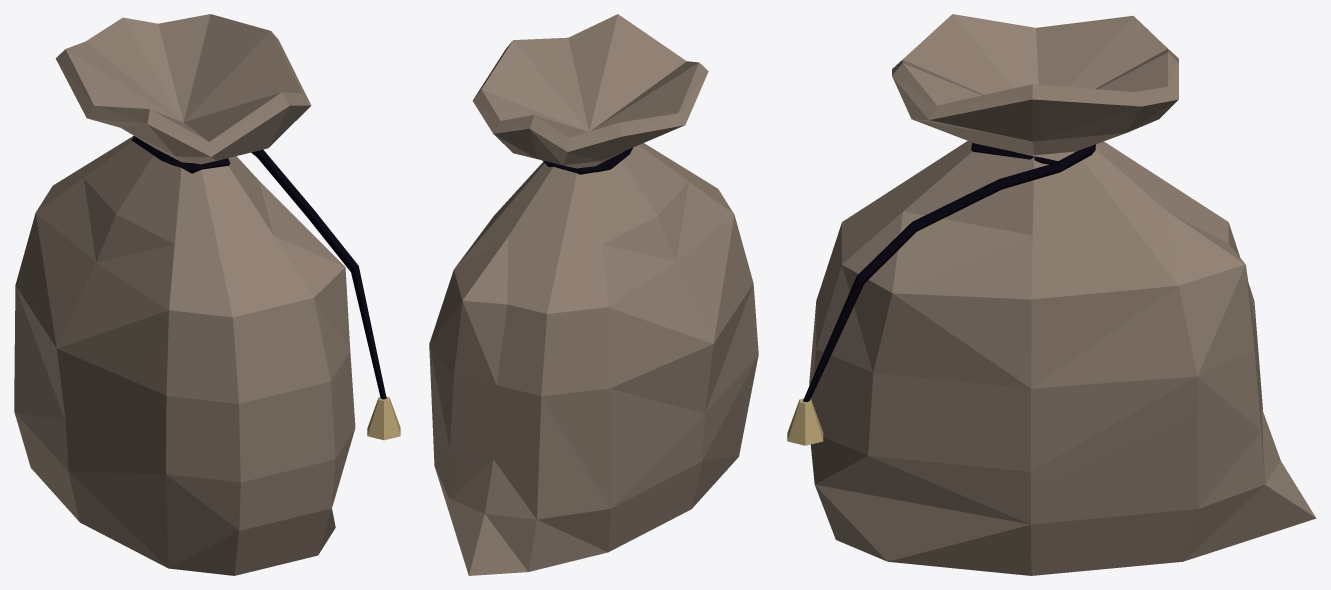
The model's file is Bag_01.glb.
The picture shows the model from 3 angles, left to right: view 1: azimuth 30°, elevation 25°; view 2: azimuth 150°, elevation 25°; view 3: azimuth 270°, elevation 25°; orthographic projection. The views are drawn at different scales.
Parts seen in each view (by area): view 1: bag_1; view 2: bag_1; view 3: bag_1.
Part boxes in pixels (x1,y1,x2,y2): bag_1: (14,14,400,575); bag_1: (429,14,758,575); bag_1: (787,14,1316,575).
Size of the model in its own units: 0.529 by 0.8989 by 0.8994.
1 material, 1 textured.
